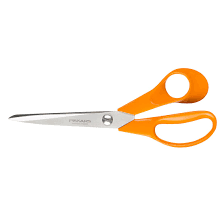tihiras: (7, 65, 219, 150)
